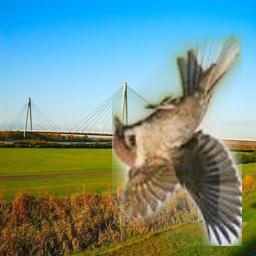Sparrow: (112, 34, 242, 246)
